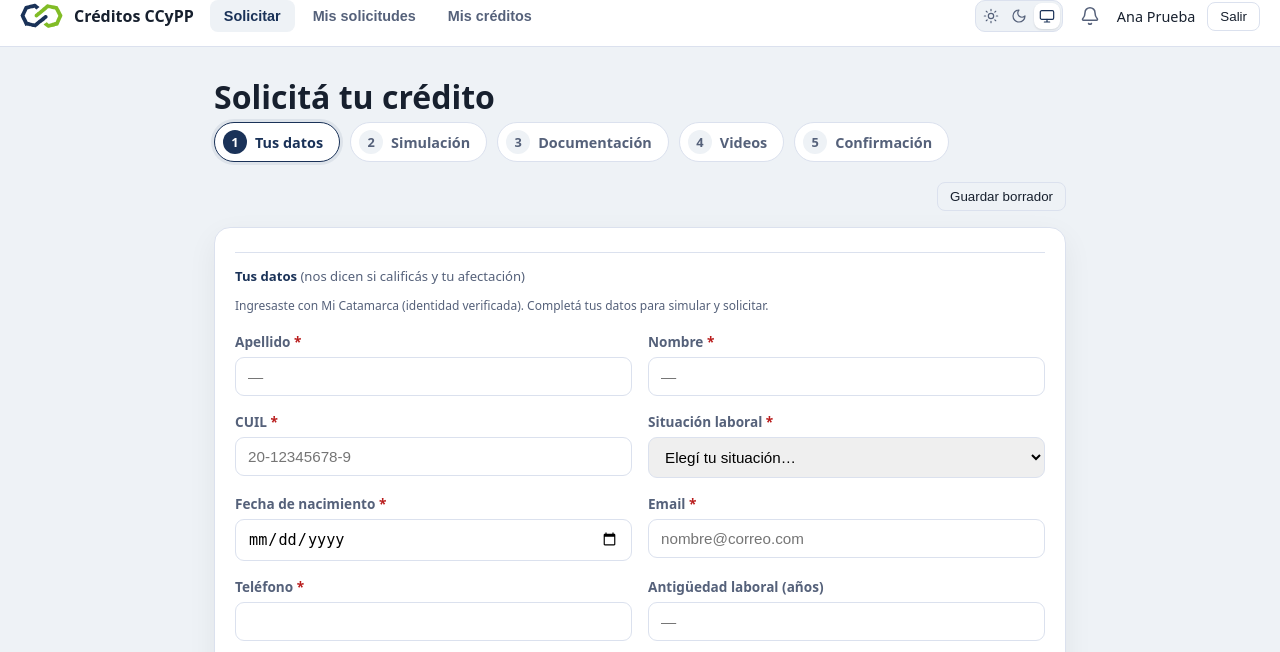
Scenario: paso 1 · tus datos › valida el dígito verificador del CUIL
Expected: the heading "Solicitá tu crédito" is shown, x1=214 y1=75 x2=495 y2=118
In the field labelled "Apellido *": (434, 376) x1=235 y1=357 x2=632 y2=396, type "Prueba"
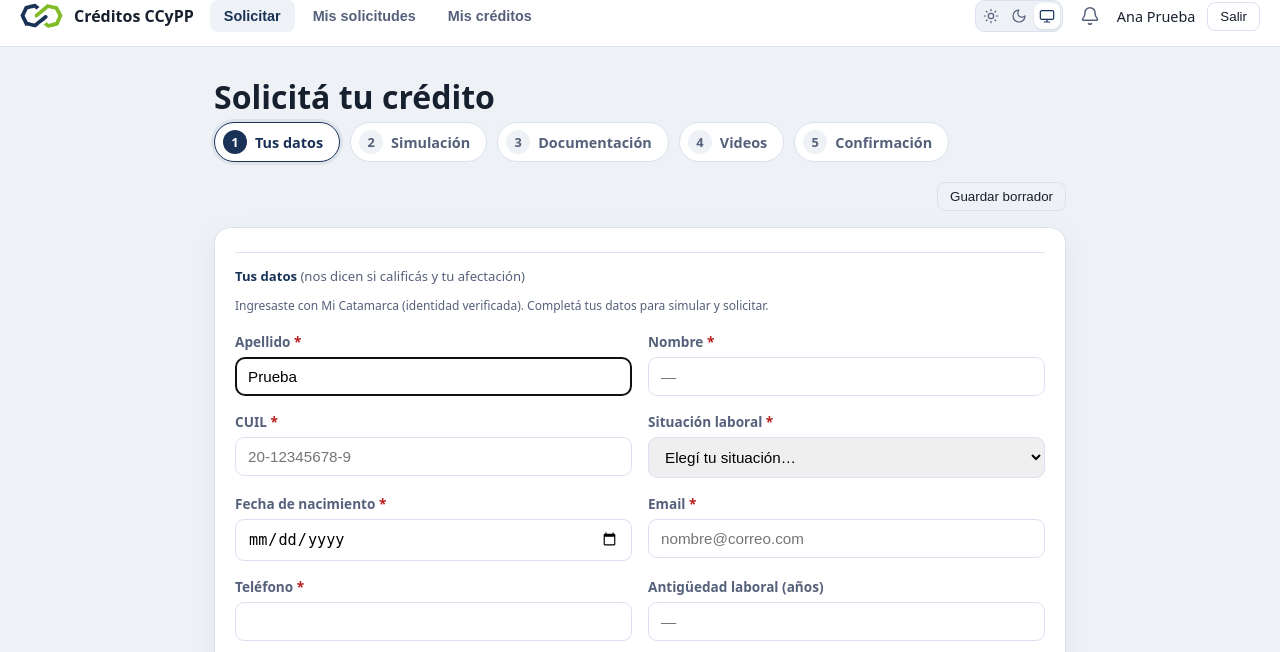
In the field labelled "Nombre *": (846, 376) x1=648 y1=357 x2=1045 y2=396, type "Ana"
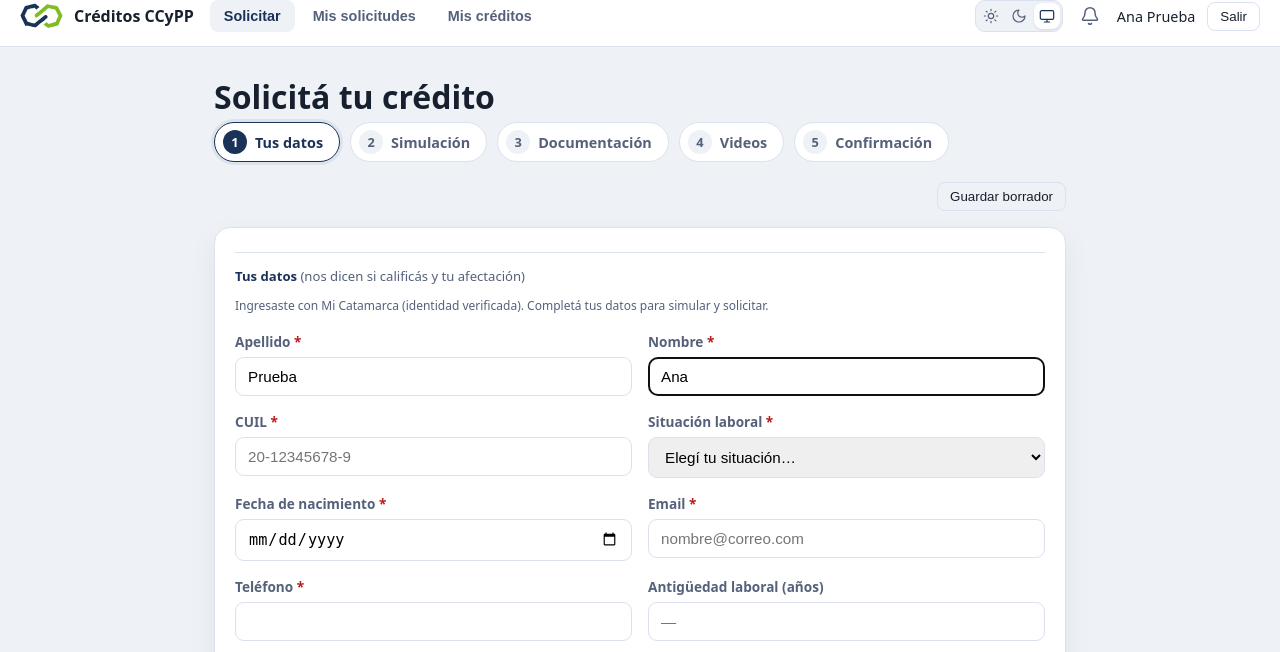
In the field labelled "CUIL *": (434, 456) x1=235 y1=437 x2=632 y2=476, type "20301234560"
(page scrolled)
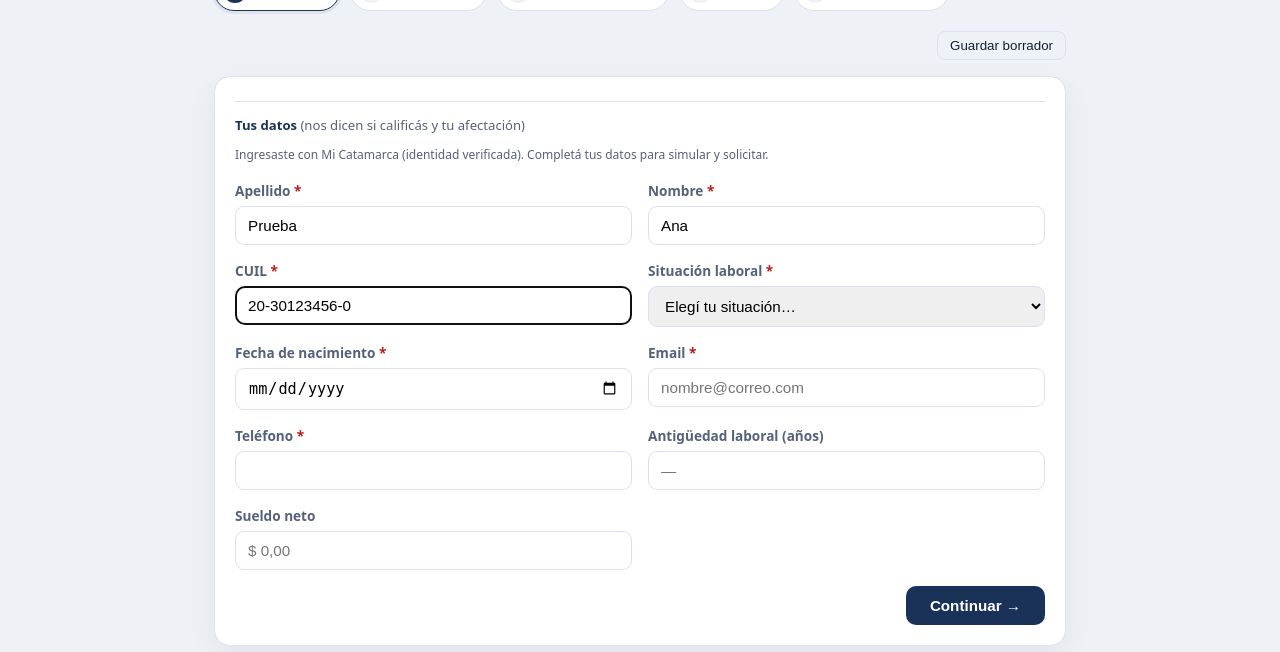
Click the button "Continuar →": (975, 606) x1=906 y1=586 x2=1045 y2=625
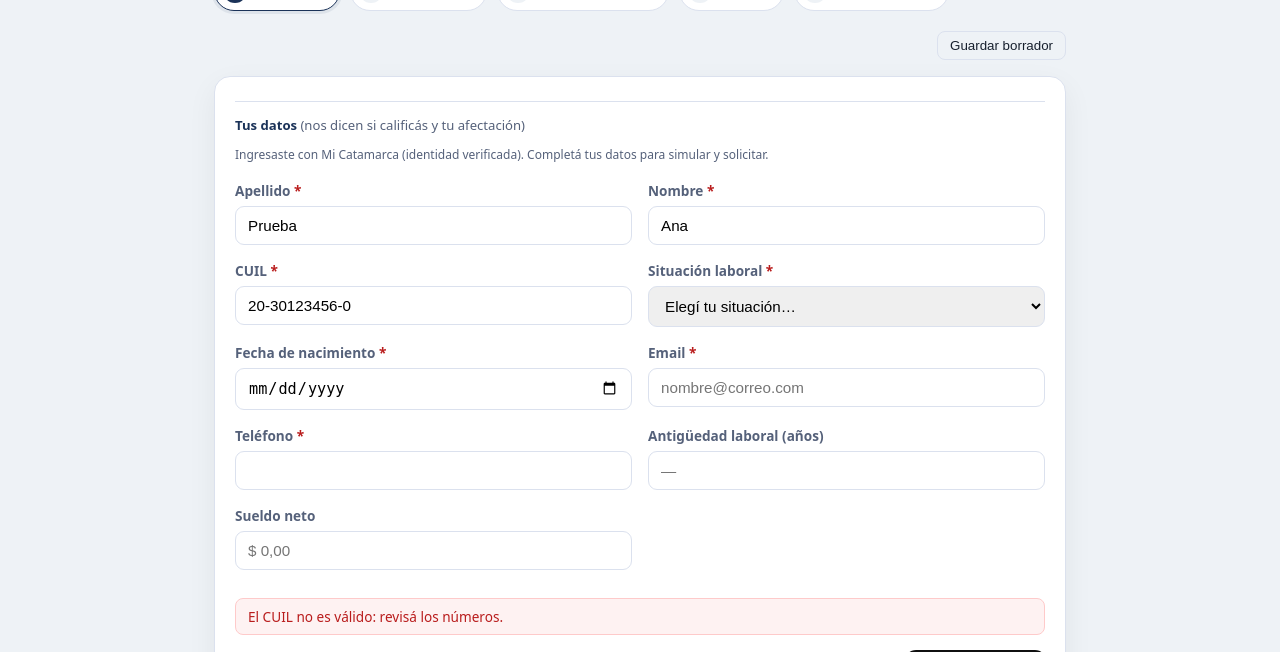
Now the text "El CUIL no es válido: revisá los números." is shown, box x1=235 y1=598 x2=1045 y2=635
